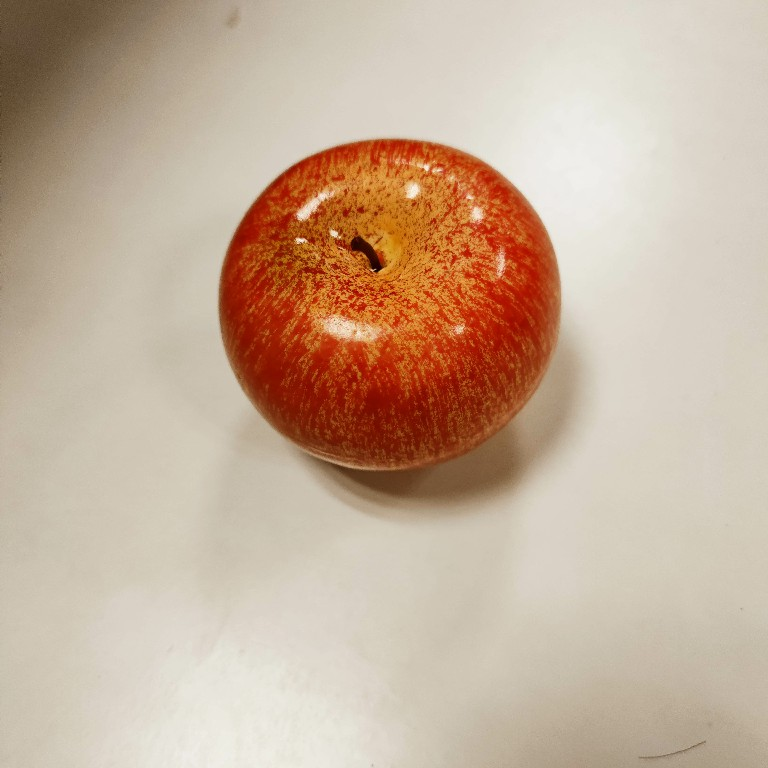fruit_apple: (207, 135, 569, 482)
